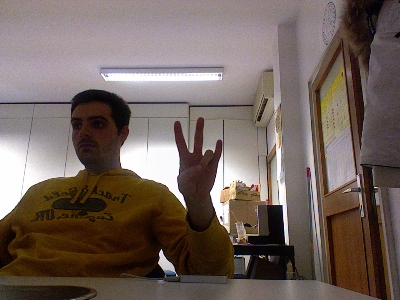观音: (172, 116, 222, 200)
